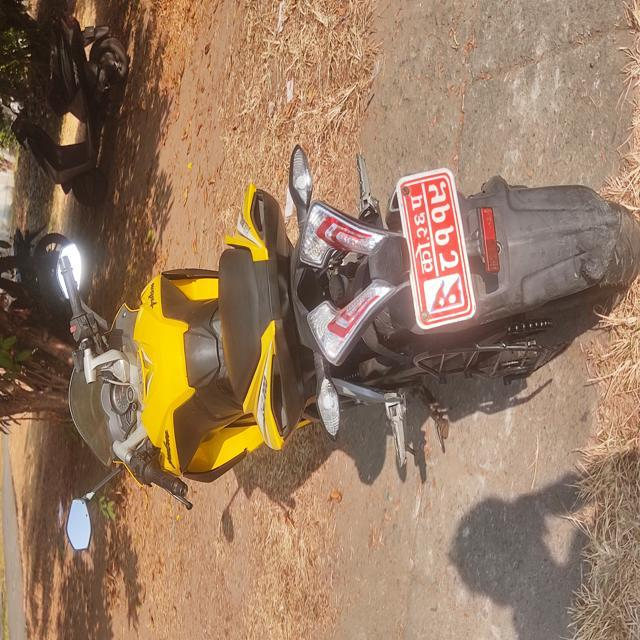license_plate: (390, 154, 491, 336)
